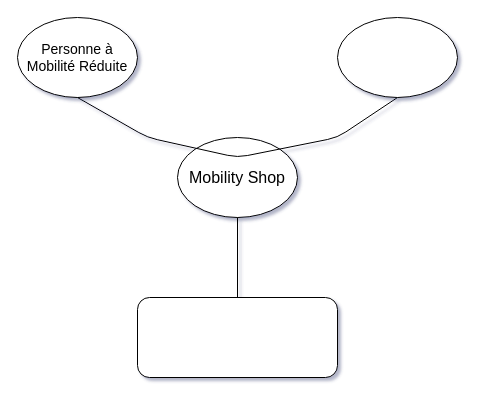
This 481x401 diagram has some shape labels left out. Each missing label, with the centre of its shape:
"Faciliter le déplacement des personnes à mobilité réduite" goes at pixel 237 337.
"Les Voies De Mobilité Routière" goes at pixel 397 57.
